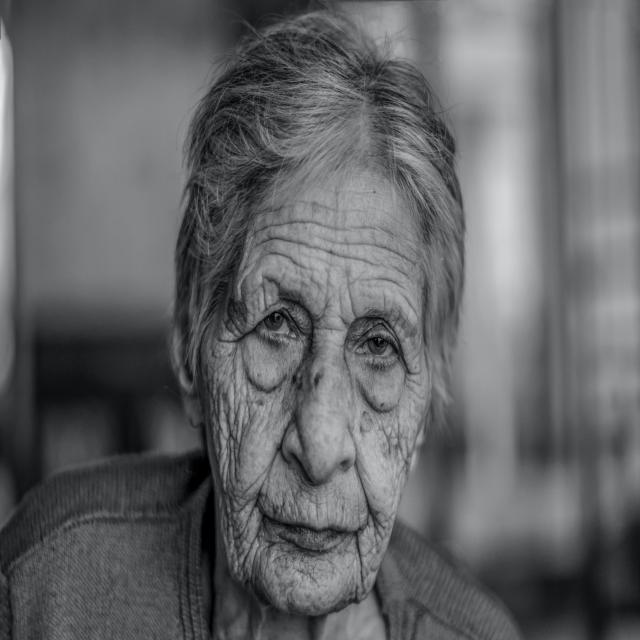Wrinkles: (315, 236, 419, 268), (266, 238, 343, 256), (253, 221, 331, 234), (270, 252, 309, 269), (361, 278, 407, 290), (400, 293, 419, 322), (347, 271, 356, 317), (348, 257, 381, 266), (351, 226, 382, 231), (301, 202, 327, 207), (327, 207, 342, 210), (342, 210, 365, 211)
